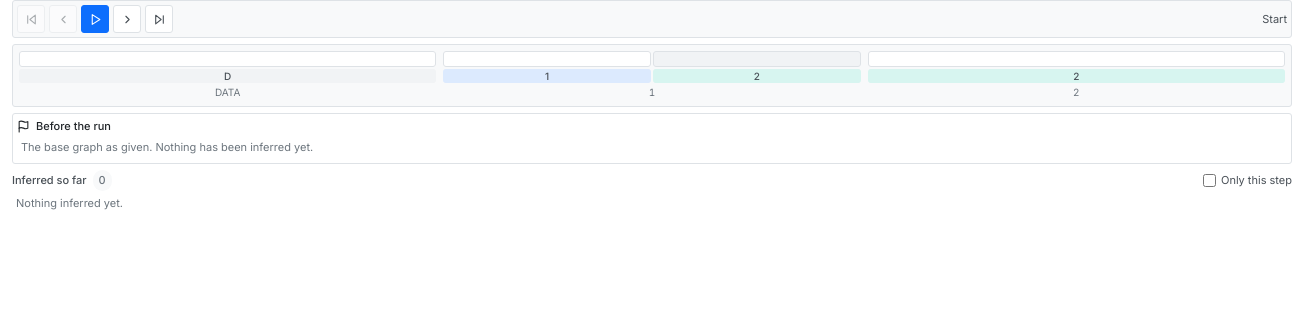
RuleSetExecutionReplay › applies deletes when rebuilding the graph
Click the button with test id "replay-next". click: (127, 19)
box: [113, 5, 141, 33]
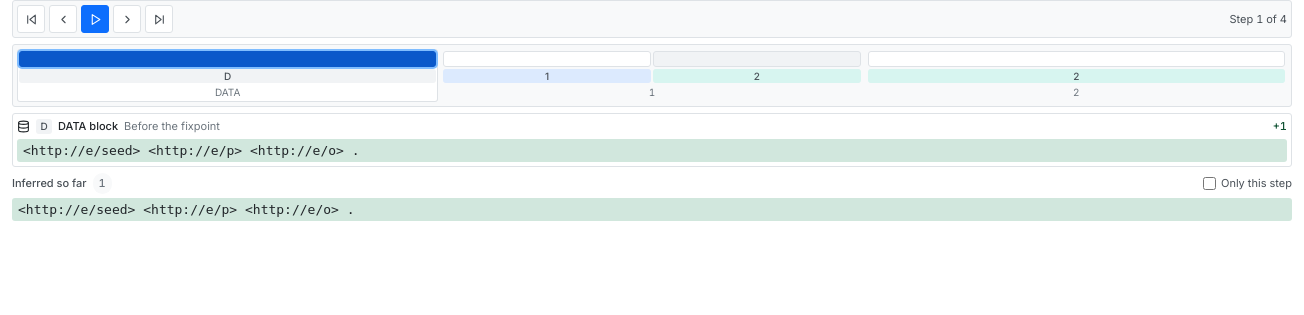
Click the button with test id "replay-next". click: (127, 19)
box: [113, 5, 141, 33]
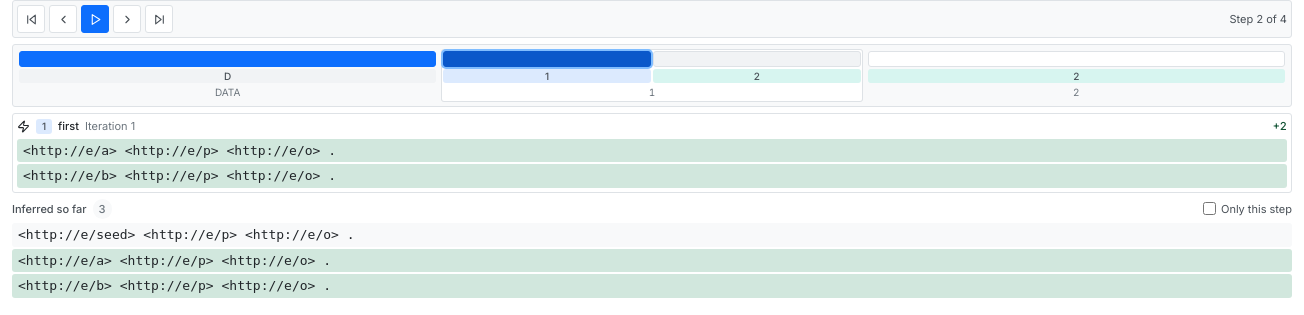
Click the button with test id "replay-next". click: (127, 19)
box: [113, 5, 141, 33]
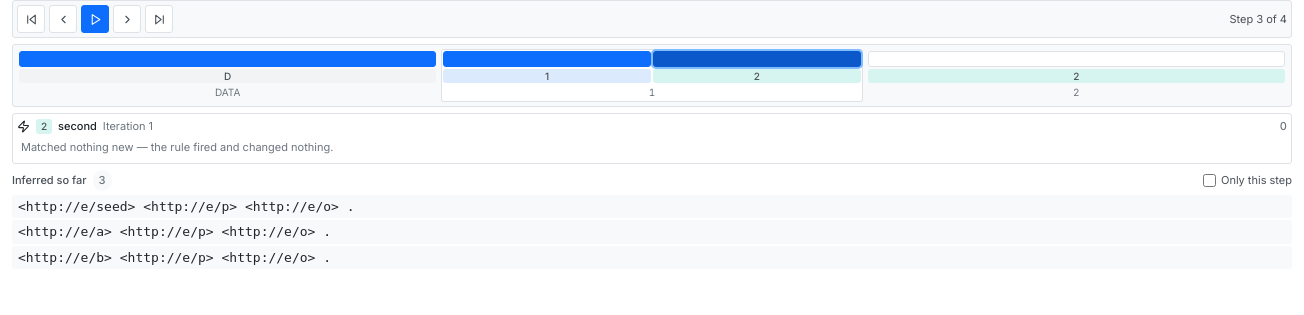
Click the button with test id "replay-next". click: (127, 19)
box: [113, 5, 141, 33]
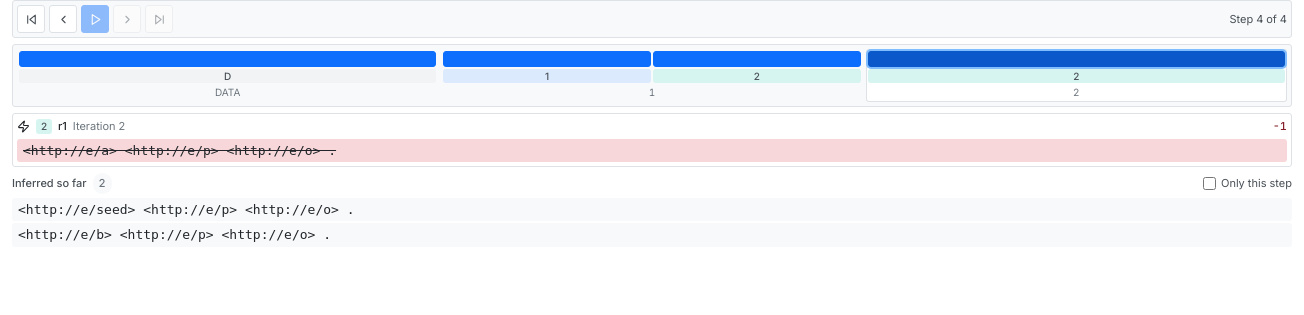
Check: the text with test id "replay-position" reads "Step 4 of 4", box [1230, 12, 1287, 26]
Check: the element with test id "replay-so-far" no longer shows "/a>"
